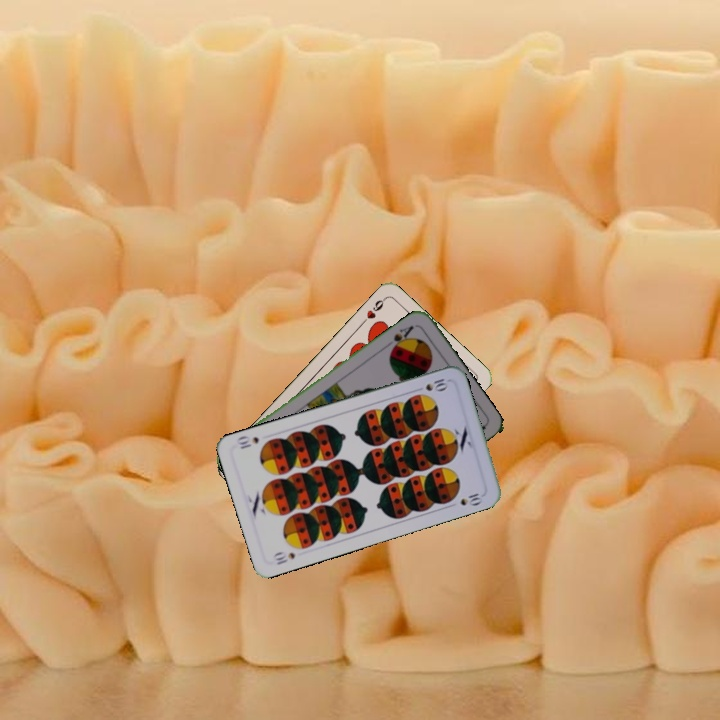H9: (357, 294, 388, 328)
S10: (411, 373, 451, 394), (270, 548, 298, 567)
SA: (387, 322, 416, 354)
